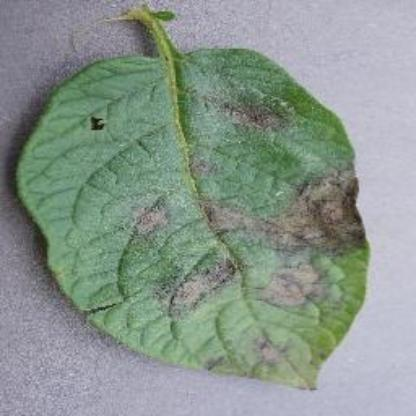Late-Blight: (12, 4, 384, 404)
